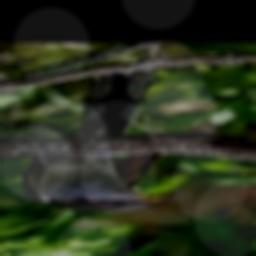Cuckoo: (21, 70, 180, 214)
